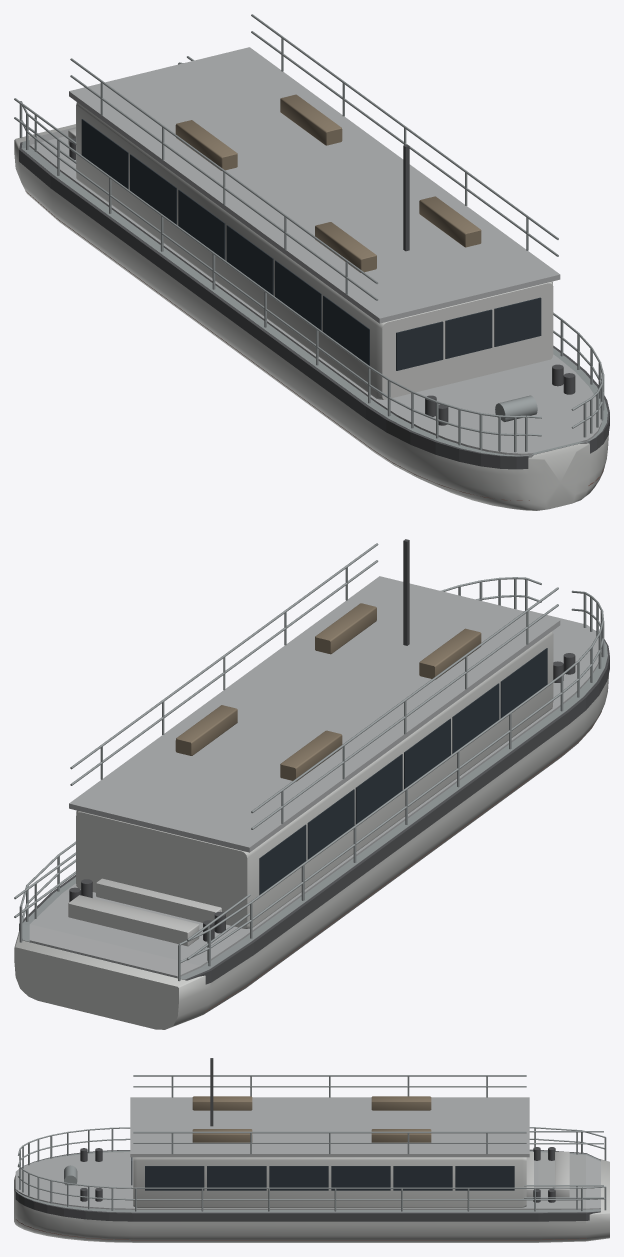
File: vessel-tender.glb
3 views of the same model, one above another, from view 1: azimuth 30°, elevation 25°; view 2: azimuth 150°, elevation 25°; view 3: azimuth 270°, elevation 25° (orthographic). The views are drawn at different scales.
Visible parts, largest first — view 1: vessel-tender; view 2: vessel-tender; view 3: vessel-tender.
Boxes of the visible parts, x1,y1,x2,y2 form: vessel-tender: (14,14,609,510); vessel-tender: (14,539,609,1029); vessel-tender: (14,1058,609,1242).
Size of the model in its own units: 5.06 by 5.9 by 20.
